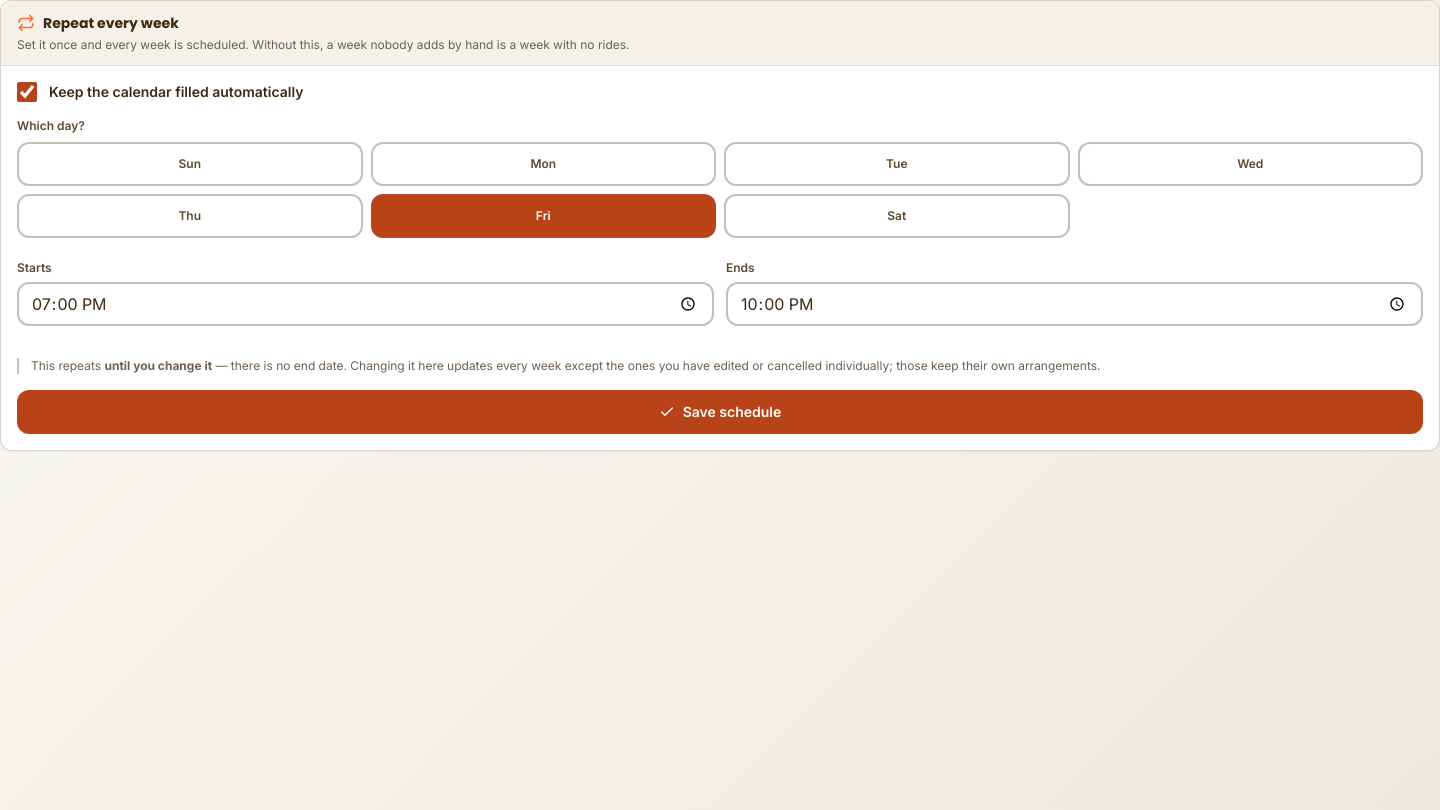
Test case: RecurringSabha › does not claim success when the server refuses
Step 1. Click the button "Save schedule" → (720, 412), box [17,390,1423,434]
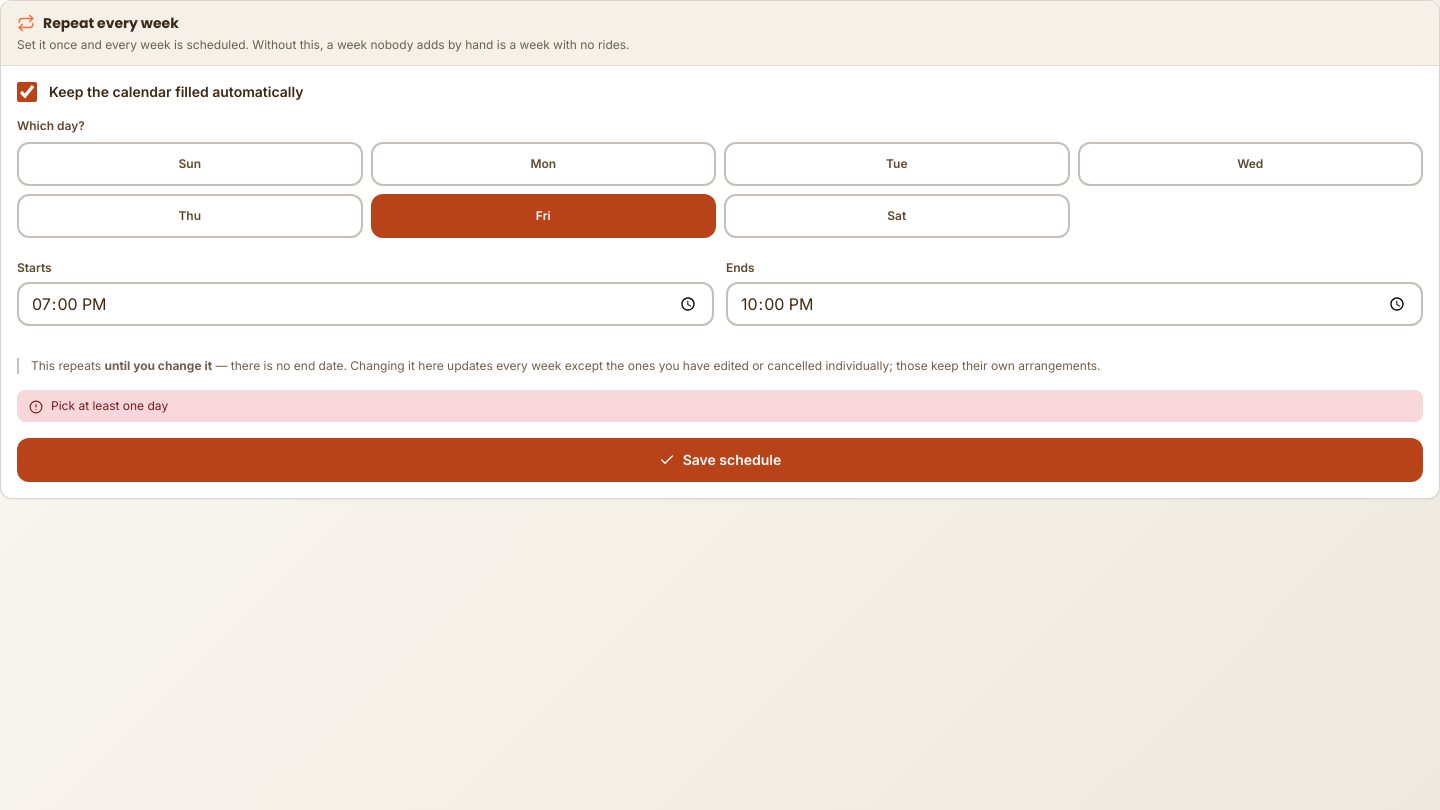
Result: the message shows "at least one day" at [51,398,168,413]
